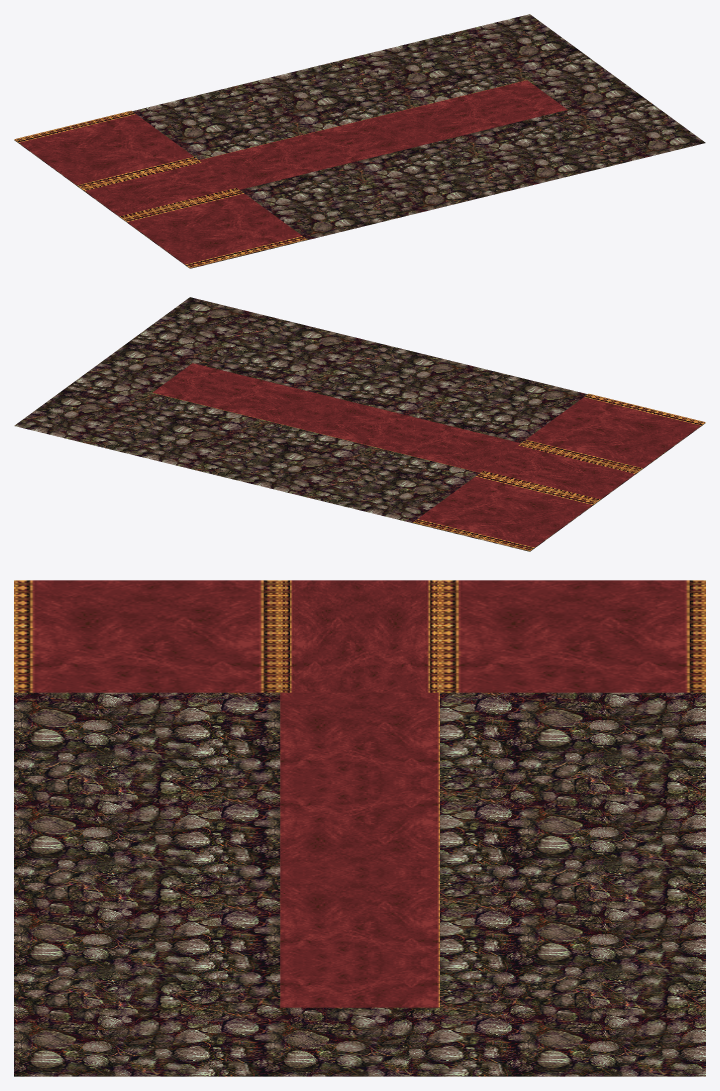
3 renders of one model, top to bottom at view 1: azimuth 30°, elevation 25°; view 2: azimuth 150°, elevation 25°; view 3: azimuth 270°, elevation 25°, orthographic. The views are drawn at different scales.
Visible parts, largest first — view 1: r1; view 2: r1; view 3: r1.
Boxes of the visible parts, x1,y1,x2,y2 form: r1: (14,14,705,268); r1: (14,297,705,551); r1: (14,580,705,1076).
Bounding box in the file's own units: 5684 × 8.25 × 3358.
